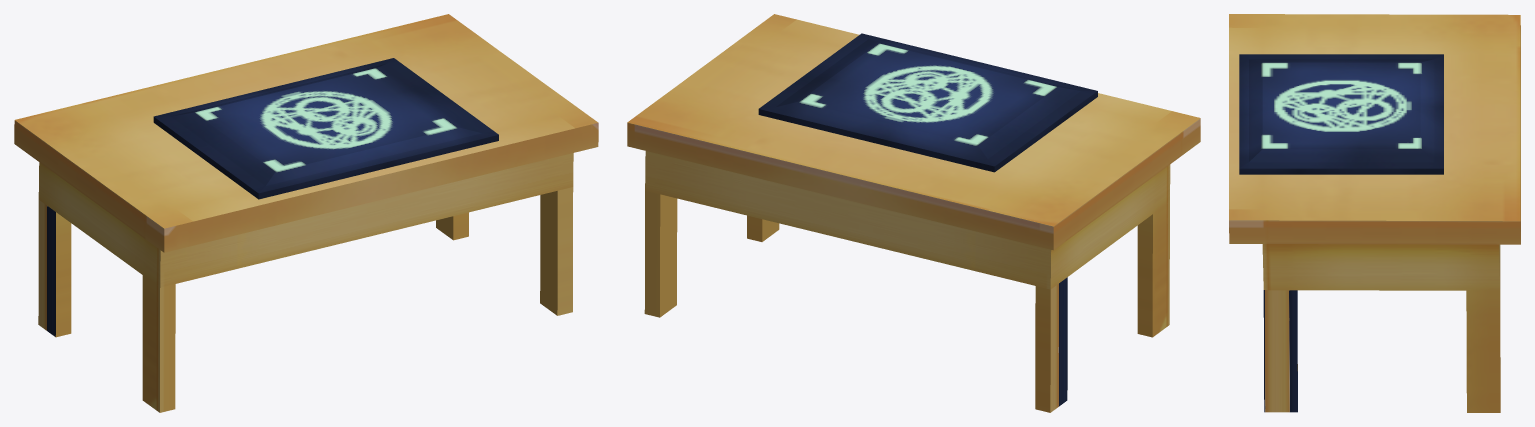
The model's file is bench.FBX.
3 views of the same model, side by side, from view 1: azimuth 30°, elevation 25°; view 2: azimuth 150°, elevation 25°; view 3: azimuth 270°, elevation 25° (orthographic). The views are drawn at different scales.
Parts seen in each view (by area): view 1: Object065; view 2: Object065; view 3: Object065.
Boxes of the visible parts, x1,y1,x2,y2 form: Object065: [14, 14, 598, 412]; Object065: [627, 14, 1200, 412]; Object065: [1229, 14, 1520, 412].
Bounding box in the file's own units: 168 × 79.06 × 100.
